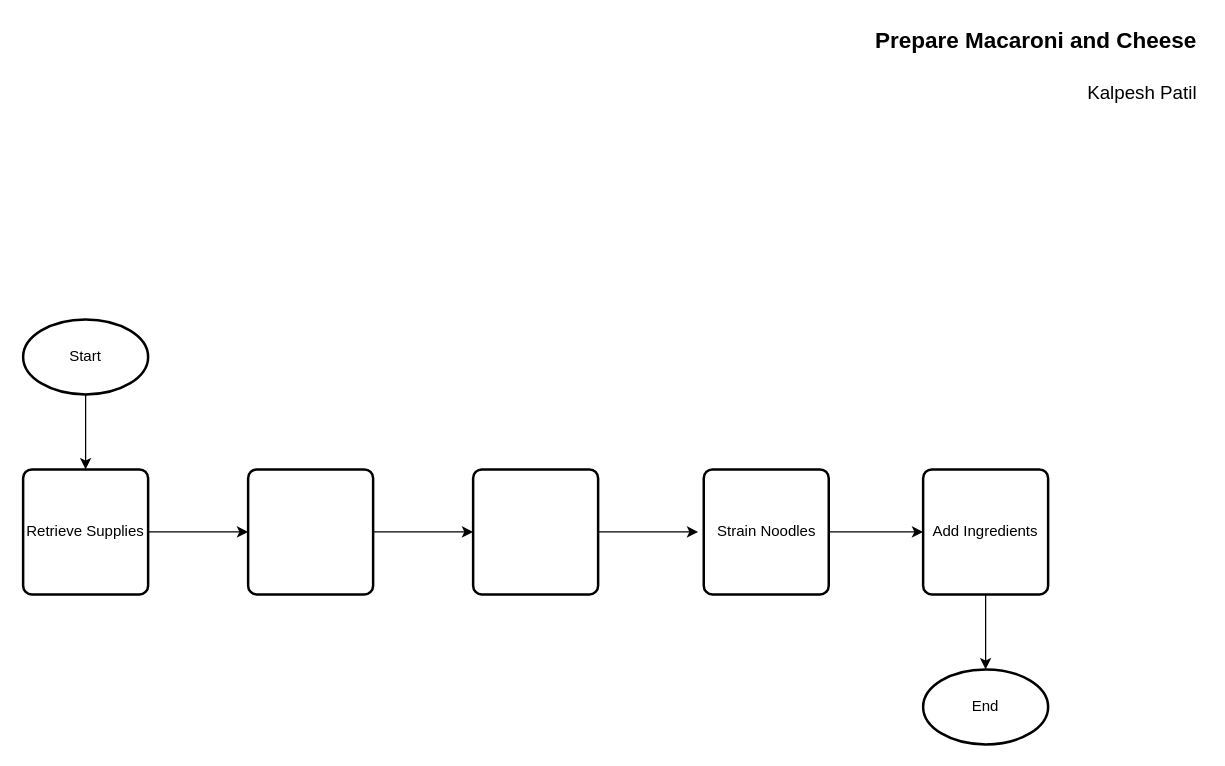
Image size: 1225x766. Some labels were removed from this diagram. The shapes that lost their labels are listed below. From the top down, each one's centre as x and y in pixels, then its label:
At (310,531): "Boil Water".
At (535,531): "Cook Noodles".
